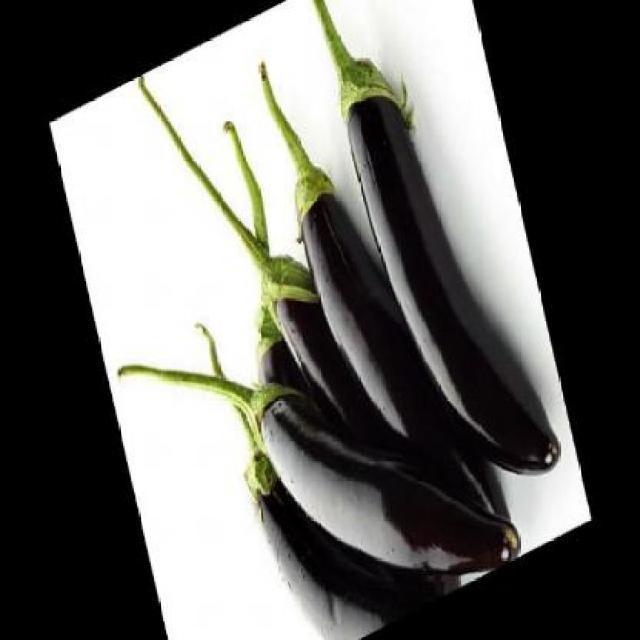eggplant: (113, 194, 524, 638), (280, 0, 566, 549), (253, 0, 498, 595), (192, 218, 479, 640)
